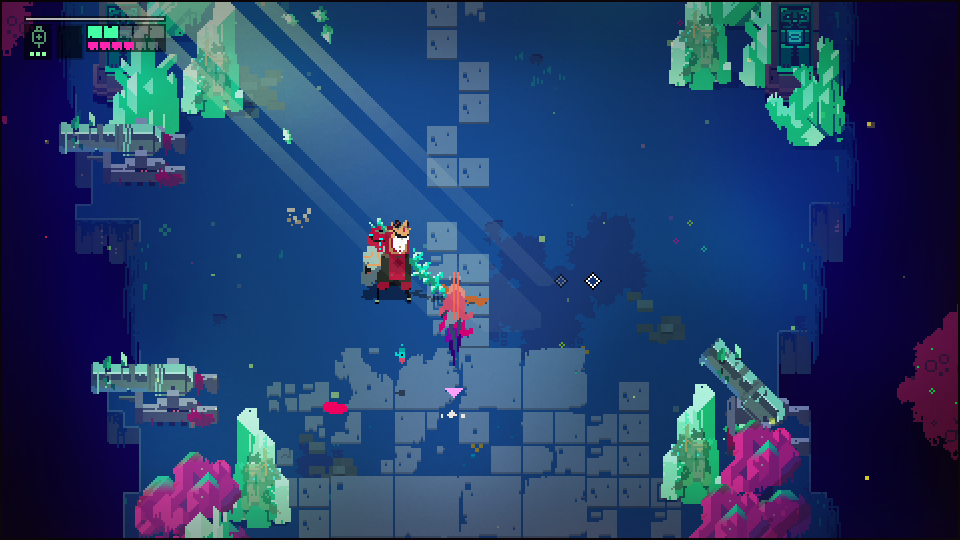hanged_man: (355, 214, 450, 316)
player: (438, 279, 471, 335)
